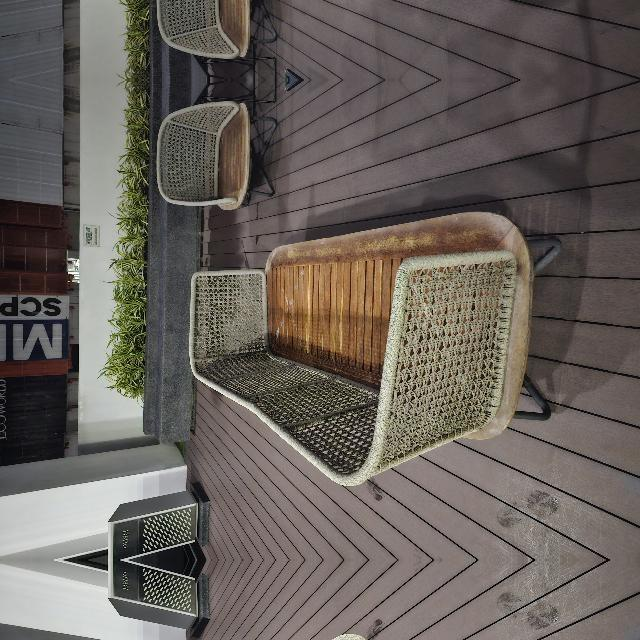obstacle: (71, 267, 351, 640), (71, 477, 351, 640), (114, 178, 478, 282), (348, 234, 462, 360), (1, 185, 79, 292)
